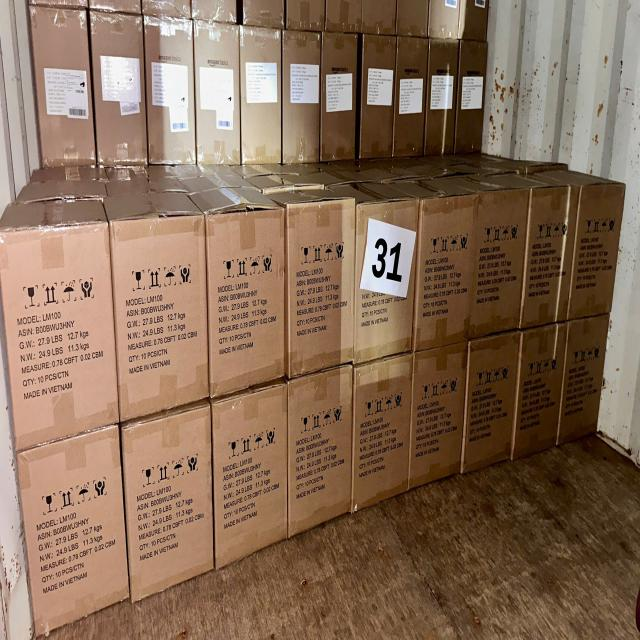Carton: (0, 228, 114, 455), (15, 424, 123, 640), (113, 224, 209, 426), (121, 410, 212, 601), (212, 203, 292, 390), (210, 388, 287, 554), (282, 196, 354, 368), (411, 185, 479, 357), (466, 183, 534, 340), (290, 366, 356, 522), (357, 197, 420, 357), (351, 359, 409, 498), (412, 352, 466, 483), (574, 182, 626, 317), (467, 338, 517, 468), (528, 190, 575, 328), (520, 331, 566, 457), (562, 318, 606, 445)
